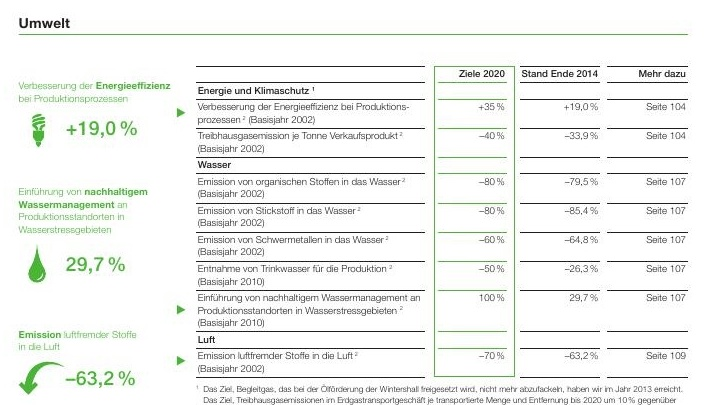table: (0, 0, 711, 405)
